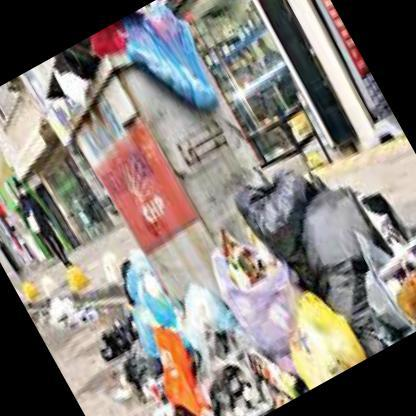Garbage: (231, 117, 415, 373), (204, 214, 353, 400), (122, 276, 286, 415), (94, 0, 230, 140), (332, 205, 415, 349), (119, 257, 168, 314)
